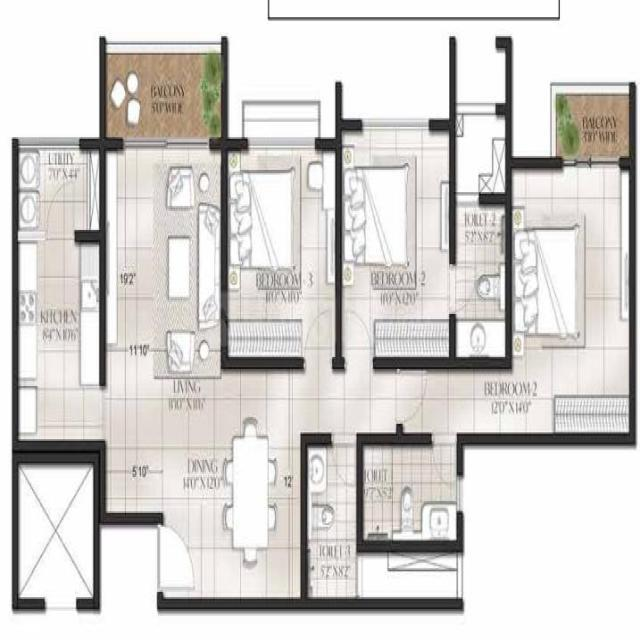Balcony-Sitout: (99, 38, 228, 148), (548, 84, 633, 159)
Bedroom: (507, 158, 635, 445), (337, 118, 452, 367), (225, 139, 337, 369)
Dining: (222, 418, 279, 568)
Kitchen: (11, 241, 107, 450)
Living: (105, 140, 226, 371)
Toilet: (357, 434, 462, 550), (450, 194, 512, 366), (302, 433, 359, 605)
Utility: (12, 137, 103, 241)
